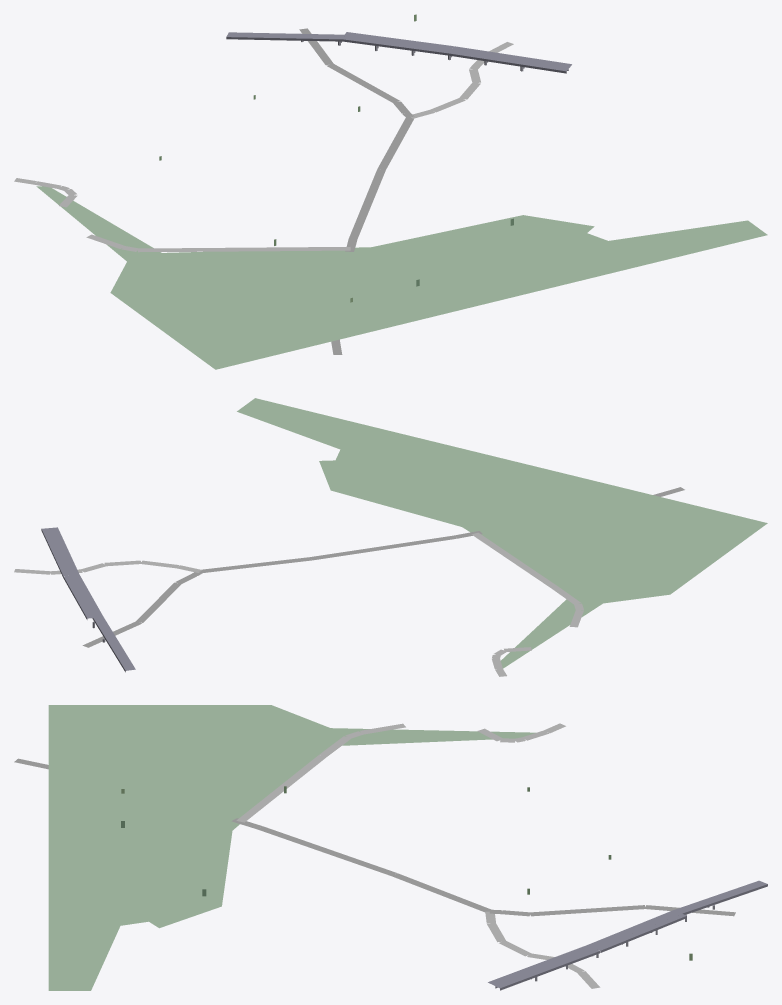
The picture shows the model from 3 angles, top to bottom: view 1: azimuth 30°, elevation 25°; view 2: azimuth 150°, elevation 25°; view 3: azimuth 270°, elevation 25°; orthographic projection. The views are drawn at different scales.
Size of the model in its own units: 516 by 10.64 by 558.
